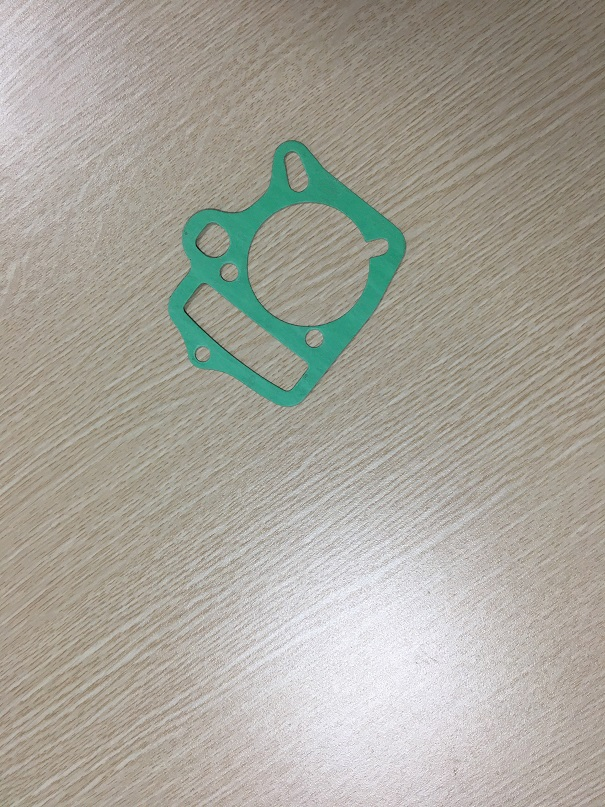type4: (163, 130, 417, 416)
